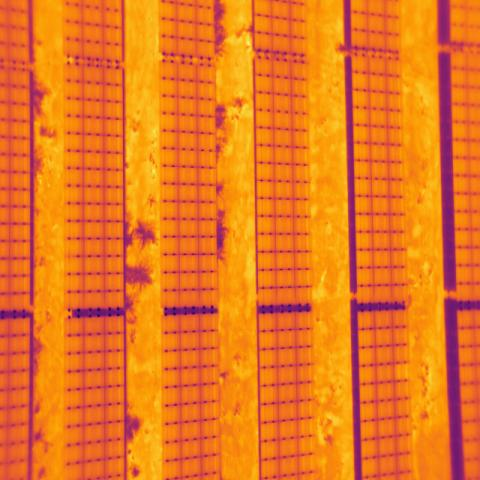fault: (394, 361, 409, 383)
